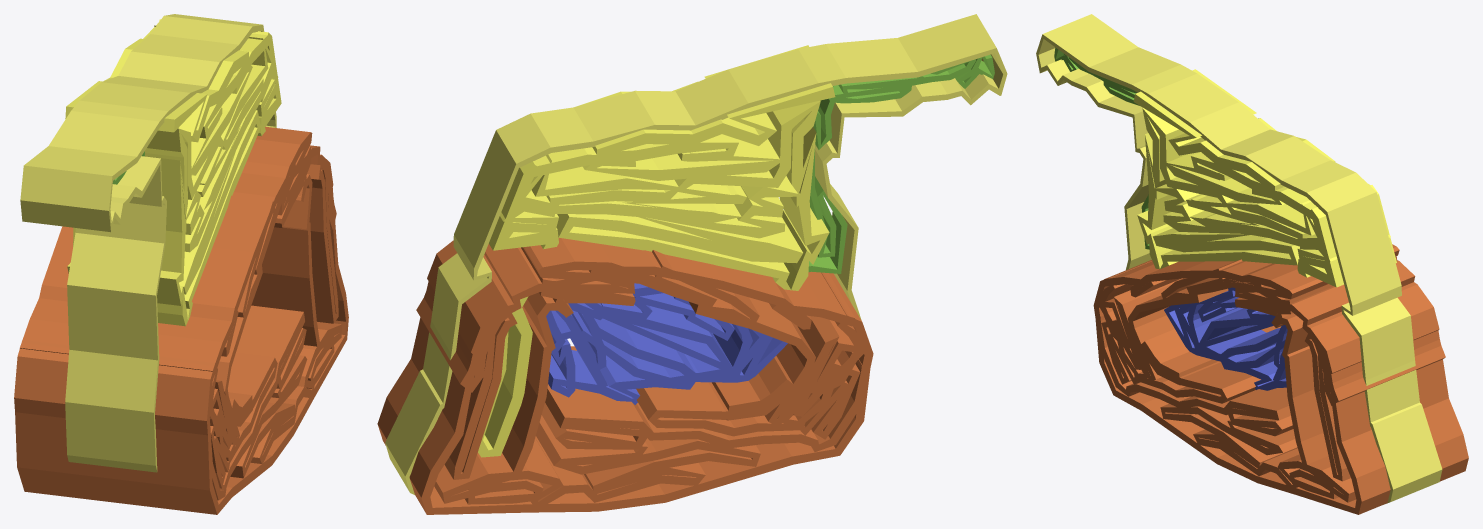
3 views of the same model, side by side, from view 1: azimuth 30°, elevation 25°; view 2: azimuth 150°, elevation 25°; view 3: azimuth 270°, elevation 25° (orthographic). The views are drawn at different scales.
Visible parts, largest first — view 1: 4; view 2: 4; view 3: 4.
Boxes of the visible parts, x1=… form: 4: x1=14, y1=14, x2=348, y2=514; 4: x1=377, y1=14, x2=1007, y2=514; 4: x1=1036, y1=14, x2=1468, y2=514.
Size of the model in its own units: 0.5973 by 0.4938 by 0.5851.
